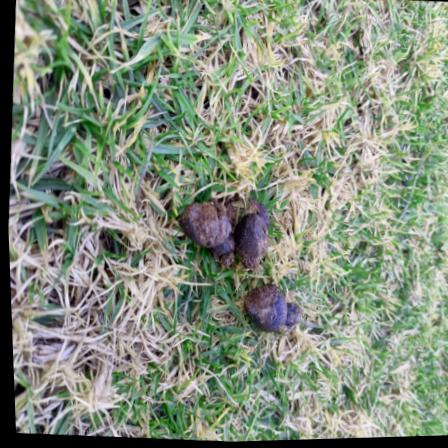dog-poop: (165, 171, 318, 345)
